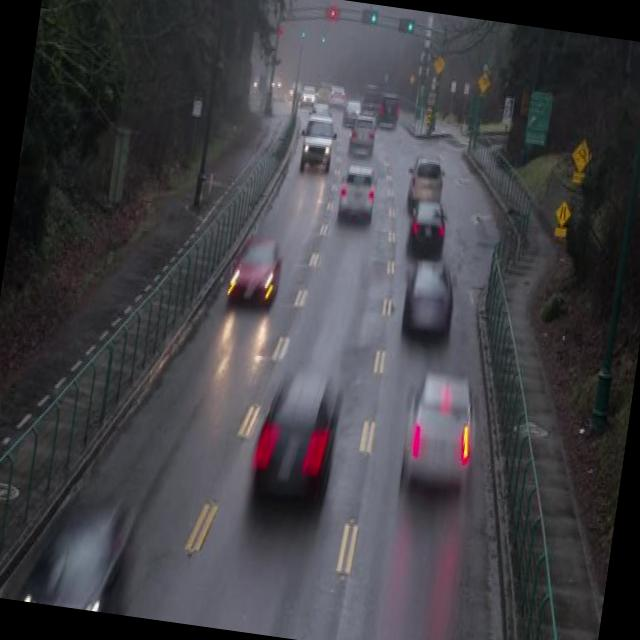Vehicle: (240, 340, 358, 544), (389, 362, 491, 520), (222, 221, 290, 318), (397, 254, 462, 340), (334, 152, 386, 235), (286, 120, 346, 191), (408, 142, 458, 198), (408, 191, 451, 253), (351, 112, 384, 148)
